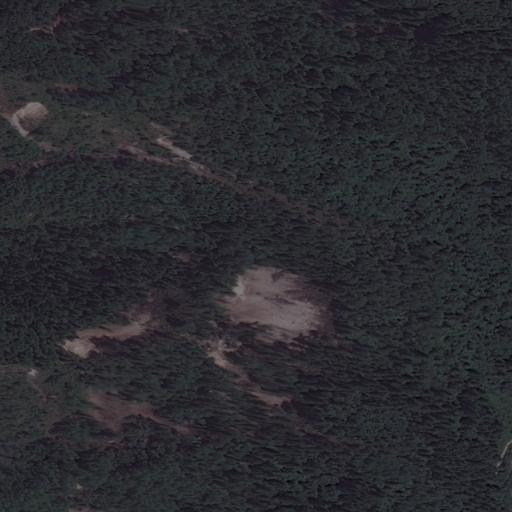landslide: (210, 265, 326, 409), (60, 299, 159, 360)
